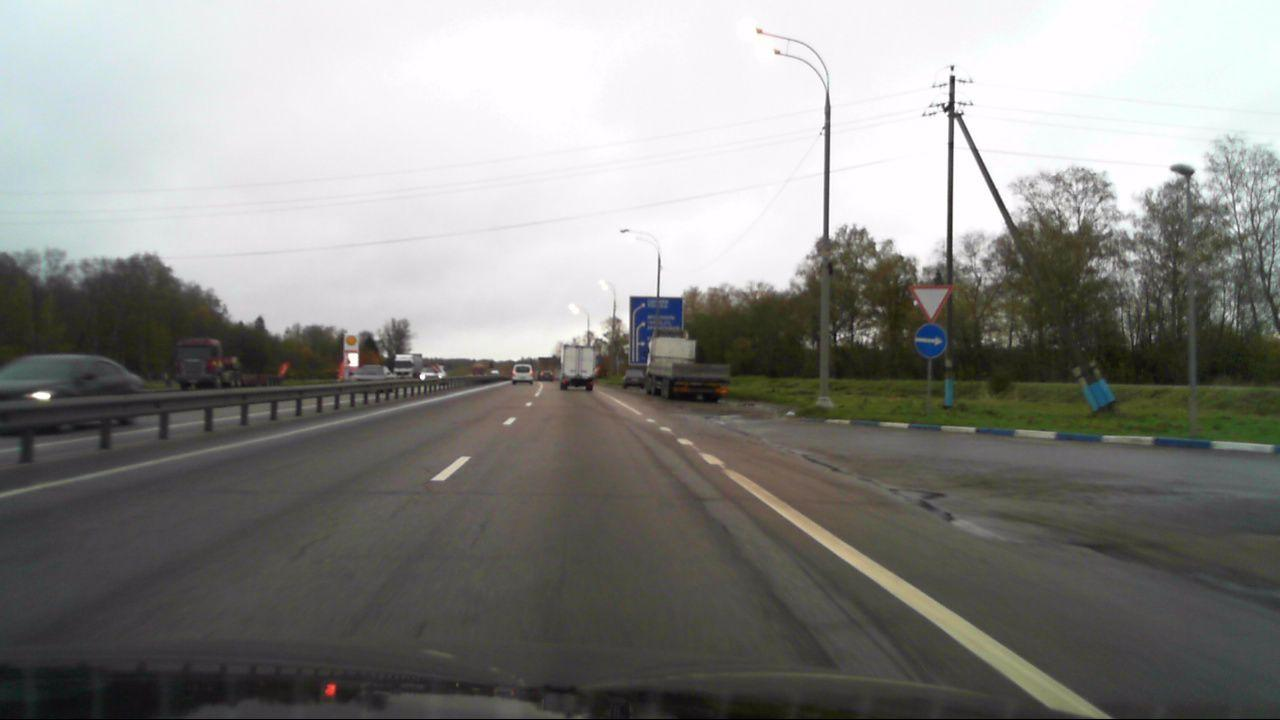2_4: (908, 284, 955, 321)
4_1_1: (914, 324, 947, 359)
